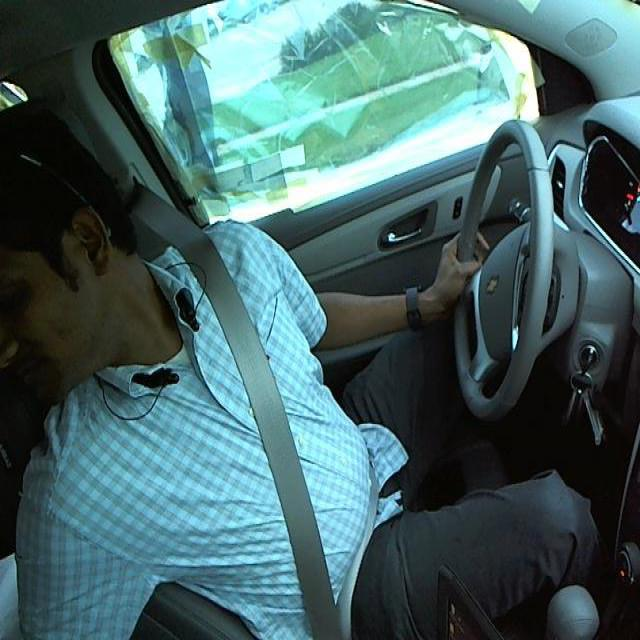seatbelt: (212, 314, 345, 638)
